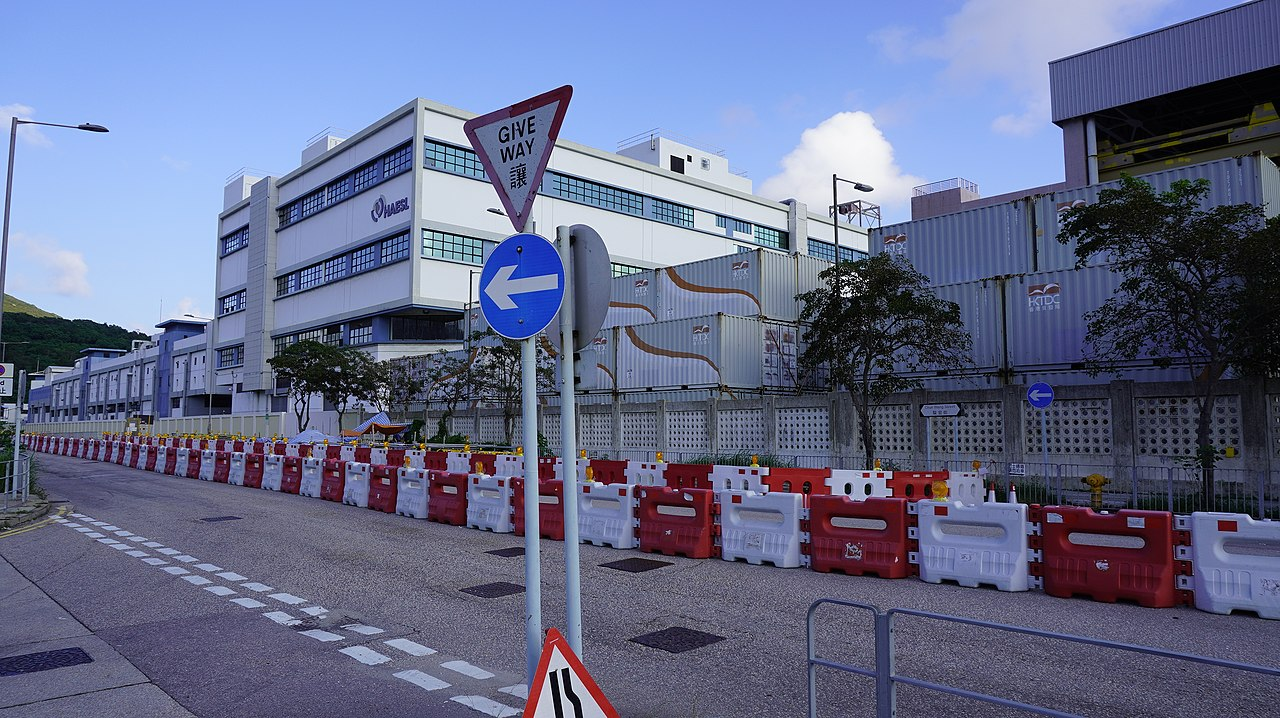Give Way: (459, 81, 578, 223)
Turn Left: (464, 220, 563, 339), (1025, 385, 1052, 415)
